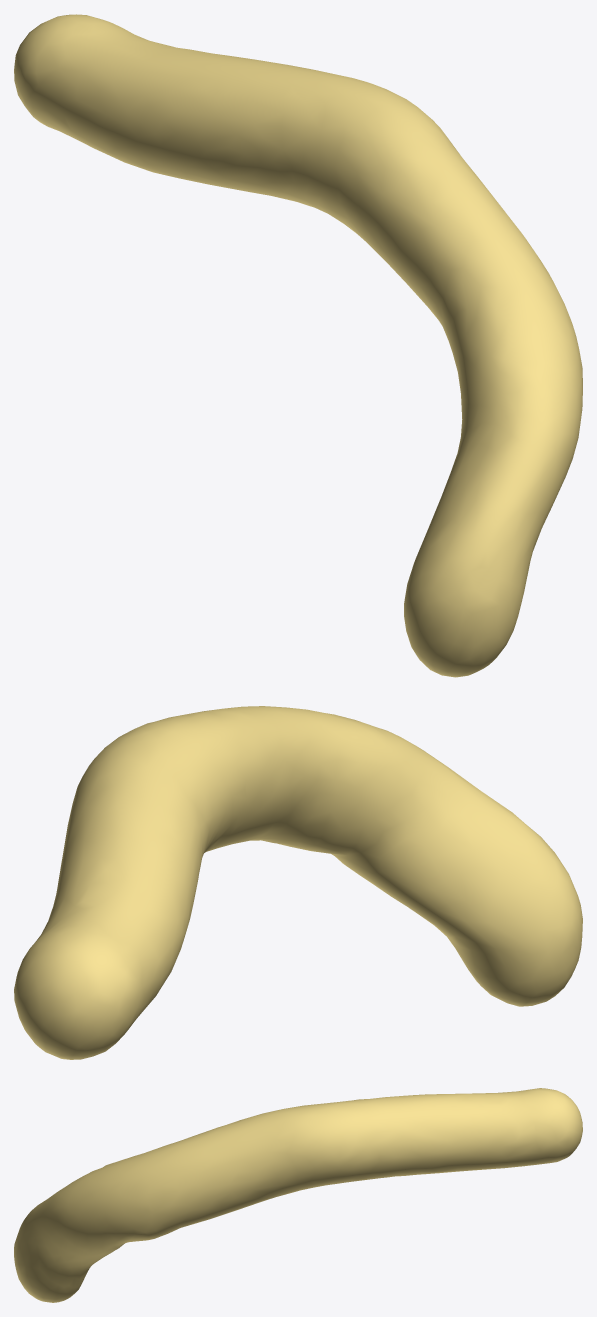
Rendered from fma73388_mm2970.glb.
3 views of the same model, one above another, from view 1: azimuth 30°, elevation 25°; view 2: azimuth 150°, elevation 25°; view 3: azimuth 270°, elevation 25° (orthographic). The views are drawn at different scales.
Parts seen in each view (by area): view 1: FMA73388_MM2970; view 2: FMA73388_MM2970; view 3: FMA73388_MM2970.
Part boxes in pixels (x1,y1,x2,y2): FMA73388_MM2970: [14, 14, 582, 677]; FMA73388_MM2970: [14, 706, 582, 1059]; FMA73388_MM2970: [14, 1088, 582, 1302].
Size of the model in its own units: 0.0049 by 0.00728 by 0.0161.
